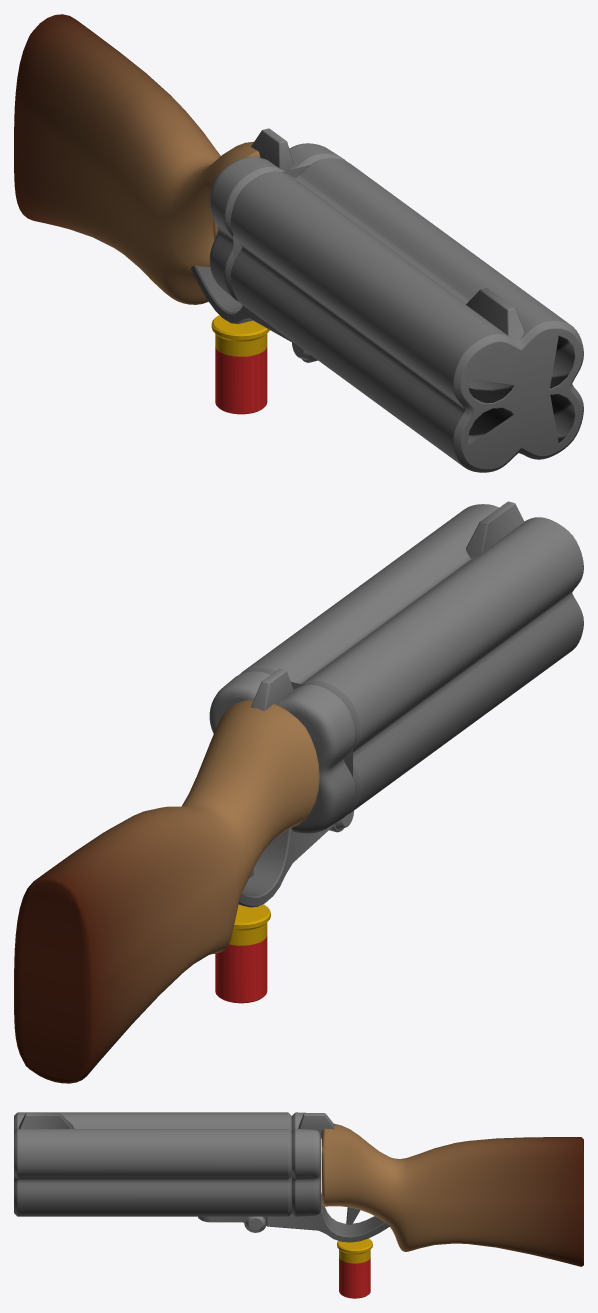
Rendered from Gun_QuadShotgun.fbx.
3 views of the same model, one above another, from view 1: azimuth 30°, elevation 25°; view 2: azimuth 150°, elevation 25°; view 3: azimuth 270°, elevation 25° (orthographic). The views are drawn at different scales.
Visible parts, largest first — view 1: Gun_Barrel, Gun_Trigger, Gun_Shell; view 2: Gun_Trigger, Gun_Barrel, Gun_Shell; view 3: Gun_Trigger, Gun_Barrel, Gun_Shell.
Boxes of the visible parts, x1,y1,x2,y2 form: Gun_Barrel: [230, 158, 583, 472]; Gun_Trigger: [14, 14, 345, 342]; Gun_Shell: [211, 315, 269, 414]; Gun_Trigger: [14, 669, 355, 1083]; Gun_Barrel: [240, 501, 583, 832]; Gun_Shell: [215, 904, 270, 1003]; Gun_Trigger: [266, 1112, 583, 1266]; Gun_Barrel: [14, 1112, 291, 1232]; Gun_Shell: [337, 1238, 372, 1298].
Size of the model in its own units: 0.3314 by 0.7095 by 2.05.
